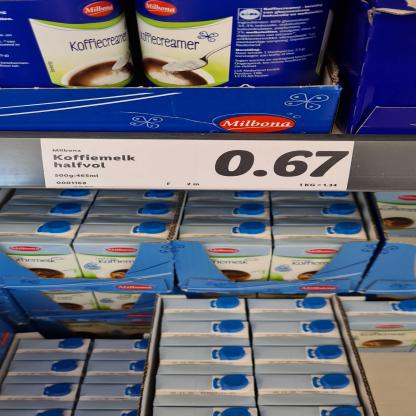prtg: (41, 140, 356, 192)
